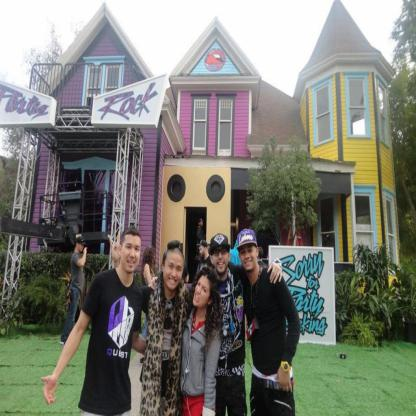face: (122, 236, 142, 273), (165, 254, 185, 290), (194, 276, 211, 307), (241, 241, 258, 271), (213, 243, 229, 274), (79, 242, 85, 253), (201, 246, 206, 257), (200, 220, 204, 228)
